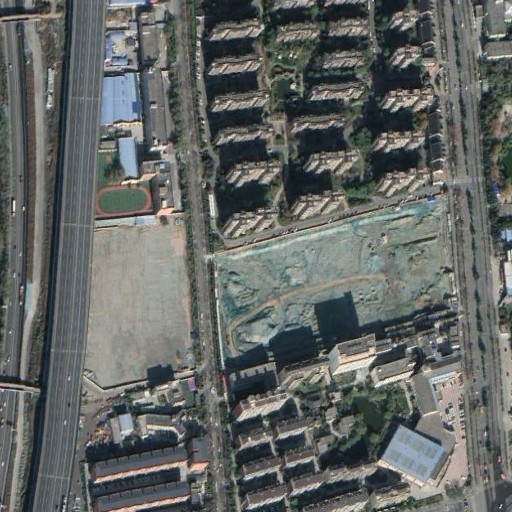cw: (210, 194, 459, 373), (83, 215, 199, 391)
